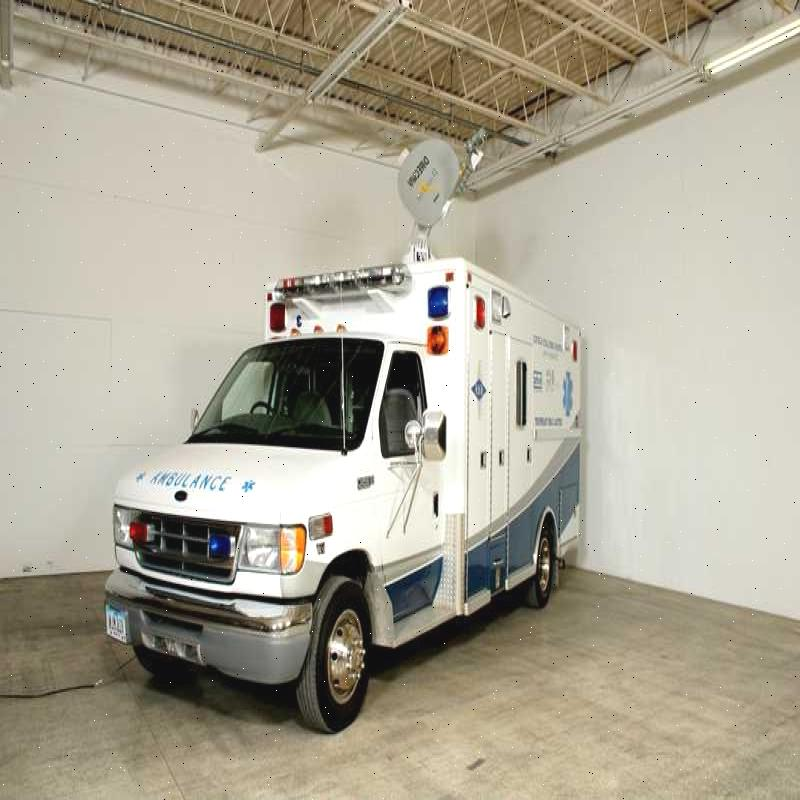AmbulanceSiren: (268, 251, 410, 312)
